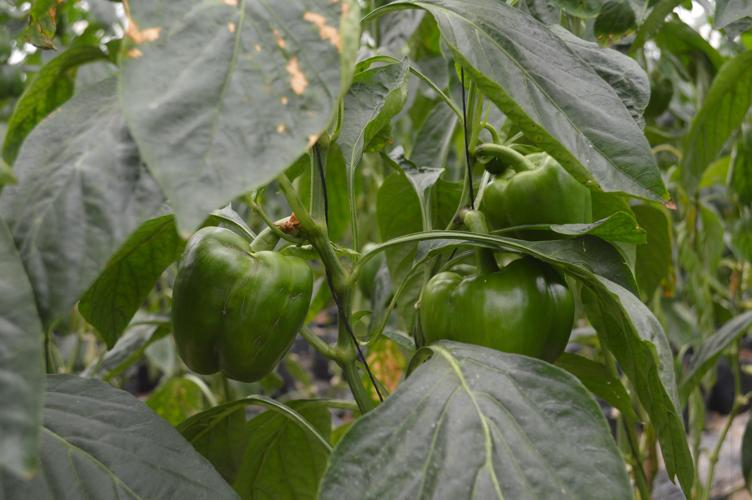BellPepper: (154, 237, 309, 386), (415, 251, 573, 384), (471, 134, 609, 244)
